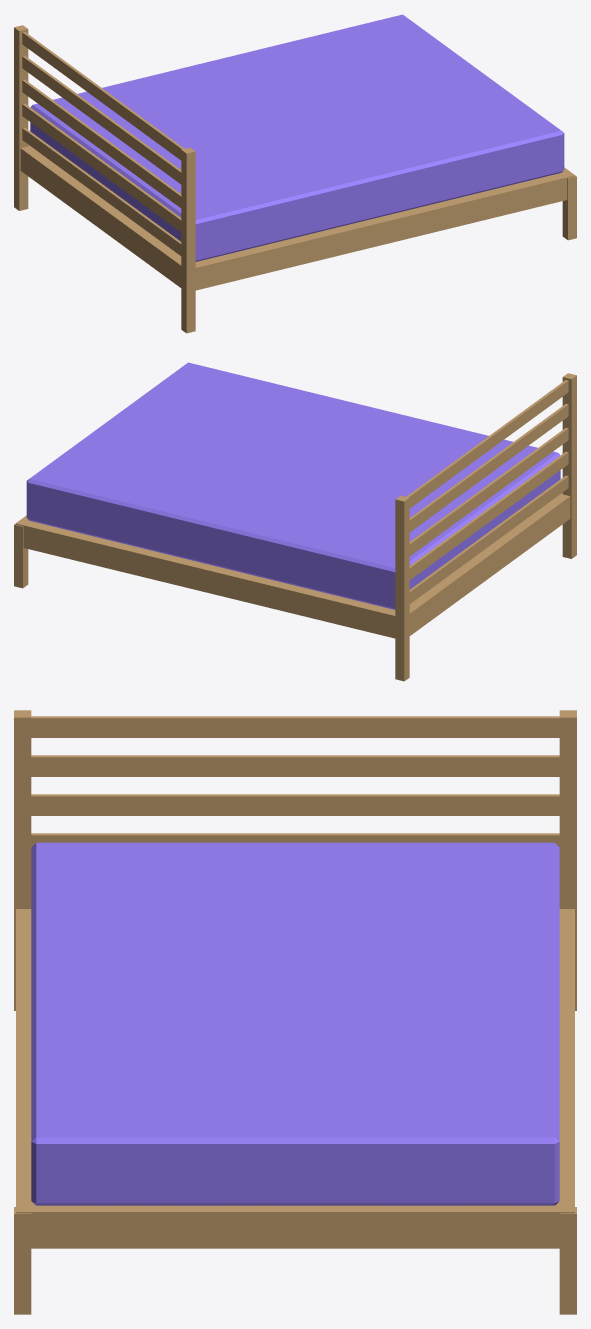
The model's file is low_poly_bed_4.glb.
3 views of the same model, one above another, from view 1: azimuth 30°, elevation 25°; view 2: azimuth 150°, elevation 25°; view 3: azimuth 270°, elevation 25° (orthographic). The views are drawn at different scales.
Visible parts, largest first — view 1: bed4; view 2: bed4; view 3: bed4.
Boxes of the visible parts, left/top/right/bottom form: bed4: left=14, top=14, right=576, bottom=333; bed4: left=14, top=362, right=576, bottom=681; bed4: left=14, top=710, right=576, bottom=1314.
Size of the model in its own units: 209 by 92 by 160.
